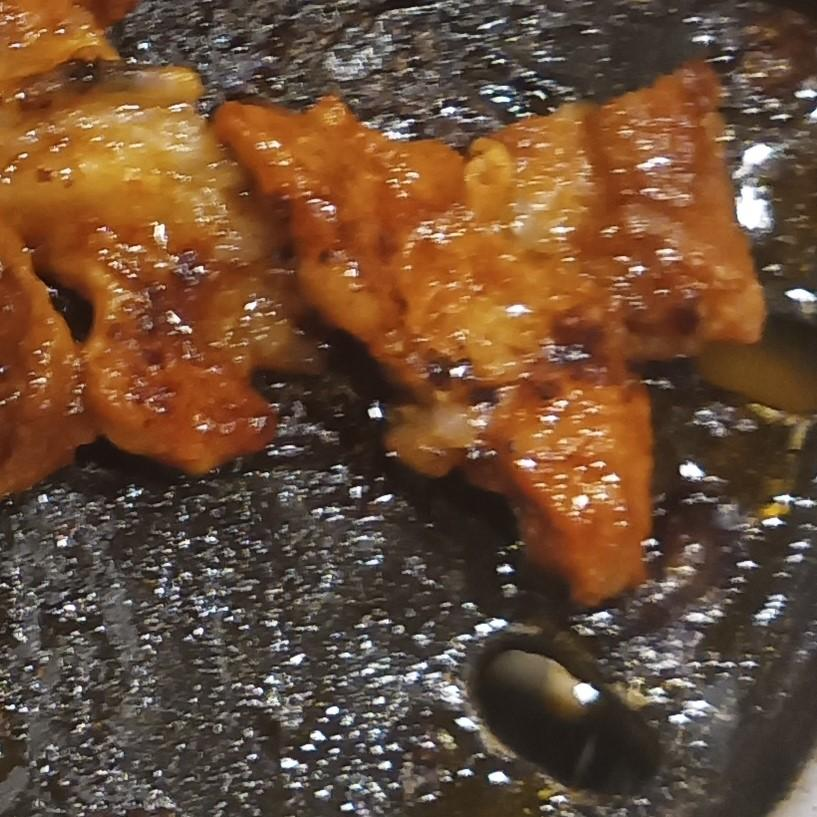Well-Cooked: (0, 0, 772, 618)
